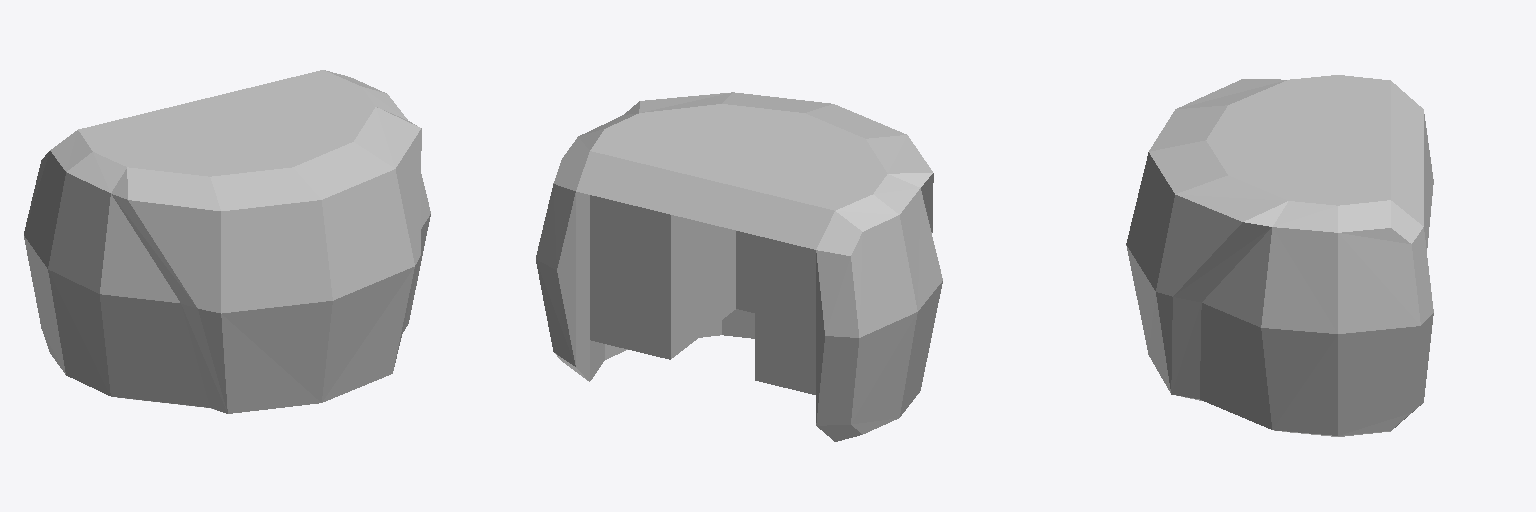
File: Shoulder_Right.obj
3 renders of one model, left to right at view 1: azimuth 30°, elevation 25°; view 2: azimuth 150°, elevation 25°; view 3: azimuth 270°, elevation 25°, orthographic.
Visible parts, largest first — view 1: Shoulder_Right; view 2: Shoulder_Right; view 3: Shoulder_Right.
Part boxes in pixels (bbox=[...]): Shoulder_Right: bbox=[24, 70, 430, 413]; Shoulder_Right: bbox=[536, 92, 942, 441]; Shoulder_Right: bbox=[1126, 75, 1433, 436].
Size of the model in its own units: 0.1646 by 0.1018 by 0.1226.